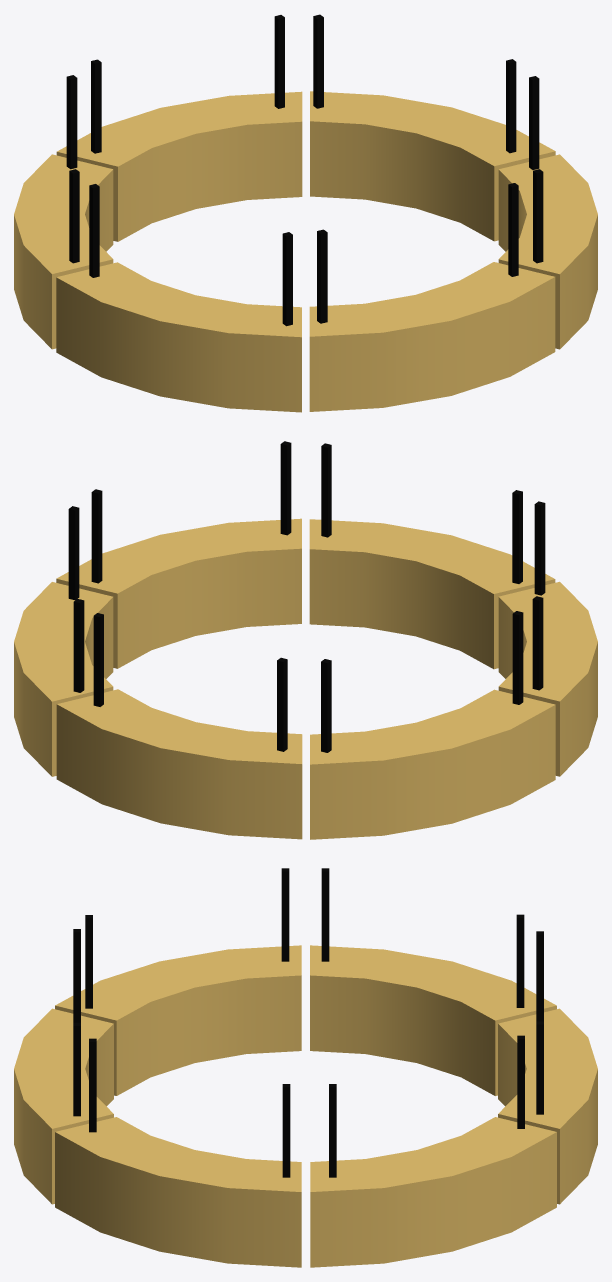
The model's file is circle_light.fbx.
3 renders of one model, top to bottom at view 1: azimuth 30°, elevation 25°; view 2: azimuth 150°, elevation 25°; view 3: azimuth 270°, elevation 25°, orthographic.
Parts seen in each view (by area): view 1: polySurface8, polySurface6, polySurface2, polySurface9, polySurface4, polySurface10, pCube12, pCube1, pCube4, pCube8, pCube3, pCube6 (+6 smaller); view 2: polySurface2, polySurface4, polySurface8, polySurface10, polySurface6, polySurface9, pCube9, pCube5, pCube6, pCube10, pCube4, pCube11 (+6 smaller); view 3: polySurface9, polySurface10, polySurface4, polySurface6, polySurface8, polySurface2, pCube5, pCube10, pCube11, pCube12, pCube6, pCube7 (+6 smaller).
Boxes of the visible parts, x1,y1,x2,y2 form: polySurface8: [309, 262, 555, 411]; polySurface6: [56, 262, 301, 412]; polySurface2: [56, 91, 302, 241]; polySurface9: [310, 91, 555, 241]; polySurface4: [14, 154, 113, 349]; polySurface10: [498, 154, 597, 349]; pCube12: [66, 75, 77, 169]; pCube1: [91, 59, 101, 153]; pCube4: [506, 59, 516, 153]; pCube8: [317, 229, 327, 323]; pCube3: [313, 14, 323, 108]; pCube6: [533, 169, 543, 263]; polySurface2: [56, 689, 302, 839]; polySurface4: [310, 689, 555, 839]; polySurface8: [309, 519, 555, 669]; polySurface10: [56, 518, 301, 668]; polySurface6: [498, 581, 597, 776]; polySurface9: [14, 582, 113, 776]; pCube9: [534, 501, 545, 595]; pCube5: [91, 489, 102, 583]; pCube6: [280, 441, 291, 535]; pCube10: [532, 596, 543, 690]; pCube4: [68, 506, 79, 600]; pCube11: [512, 611, 523, 704]; polySurface9: [310, 1117, 556, 1267]; polySurface10: [55, 1117, 301, 1267]; polySurface4: [310, 945, 556, 1095]; polySurface6: [55, 945, 301, 1095]; polySurface8: [14, 1008, 113, 1204]; polySurface2: [498, 1008, 597, 1204]; pCube5: [282, 1084, 290, 1177]; pCube10: [281, 868, 289, 961]; pCube11: [321, 868, 329, 961]; pCube12: [516, 914, 524, 1007]; pCube6: [89, 1038, 96, 1132]; pCube7: [73, 1022, 80, 1116].
Size of the model in its own units: 2.05 by 0.6421 by 2.05.
